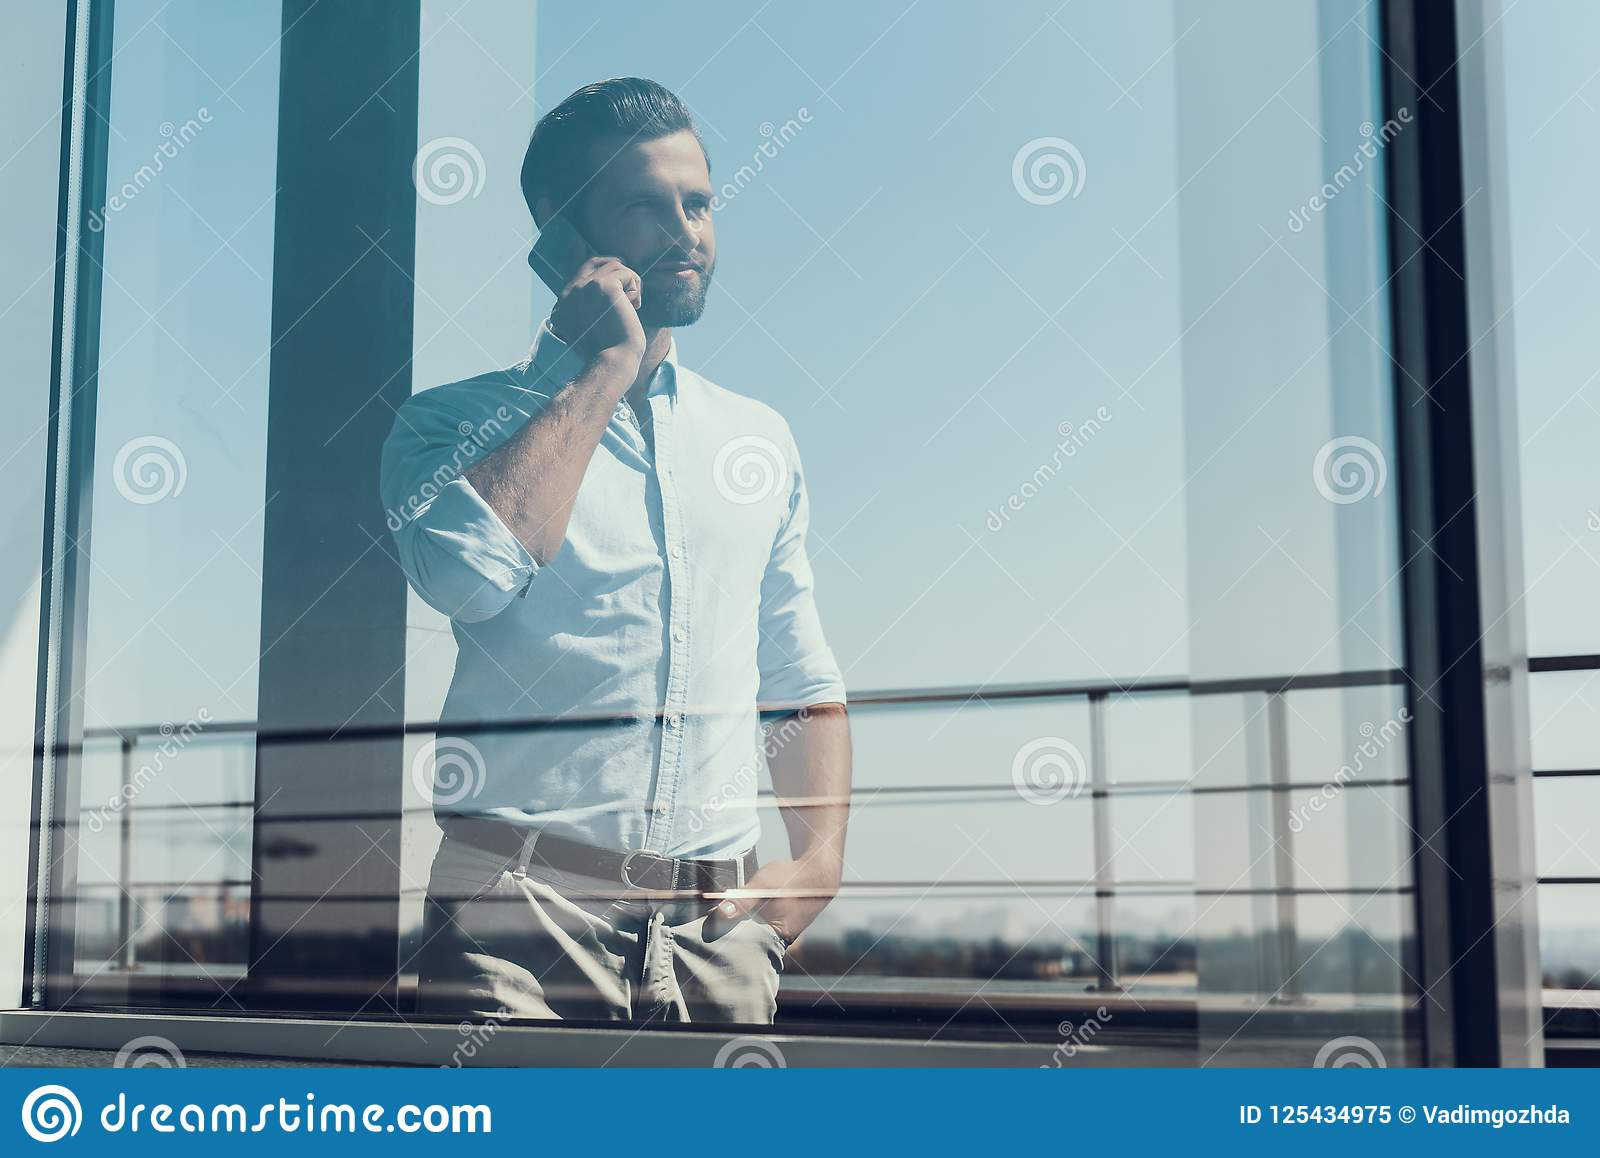phone: (529, 212, 624, 321)
talk: (528, 176, 716, 396)
